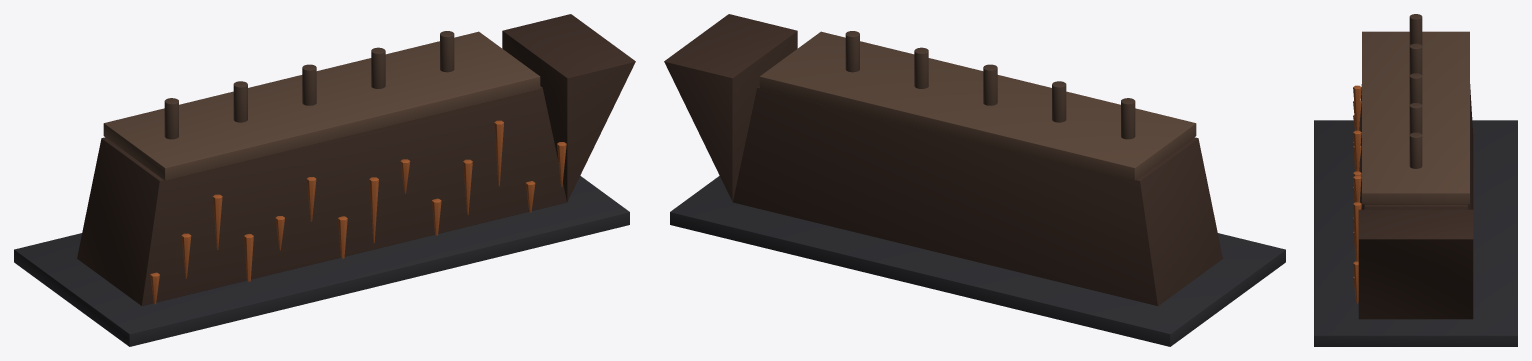
File: titanic_fundo.glb
3 renders of one model, left to right at view 1: azimuth 30°, elevation 25°; view 2: azimuth 150°, elevation 25°; view 3: azimuth 270°, elevation 25°, orthographic. The views are drawn at different scales.
Parts seen in each view (by area): view 1: titanic_fundo; view 2: titanic_fundo; view 3: titanic_fundo.
Part boxes in pixels (left/top/right/bottom): titanic_fundo: left=14, top=14, right=635, bottom=346; titanic_fundo: left=664, top=14, right=1285, bottom=346; titanic_fundo: left=1314, top=14, right=1517, bottom=346.
Bounding box in the file's own units: 4.25 × 1.41 × 1.6.
